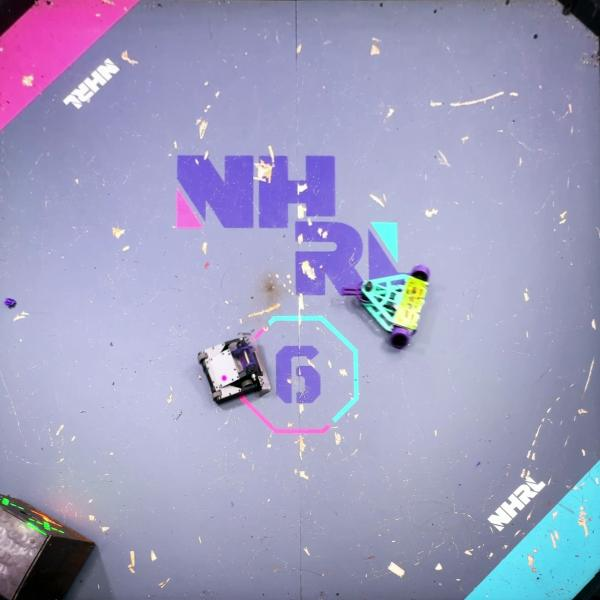housebot: (0, 489, 97, 600)
robot: (338, 264, 432, 351), (196, 331, 270, 407)
